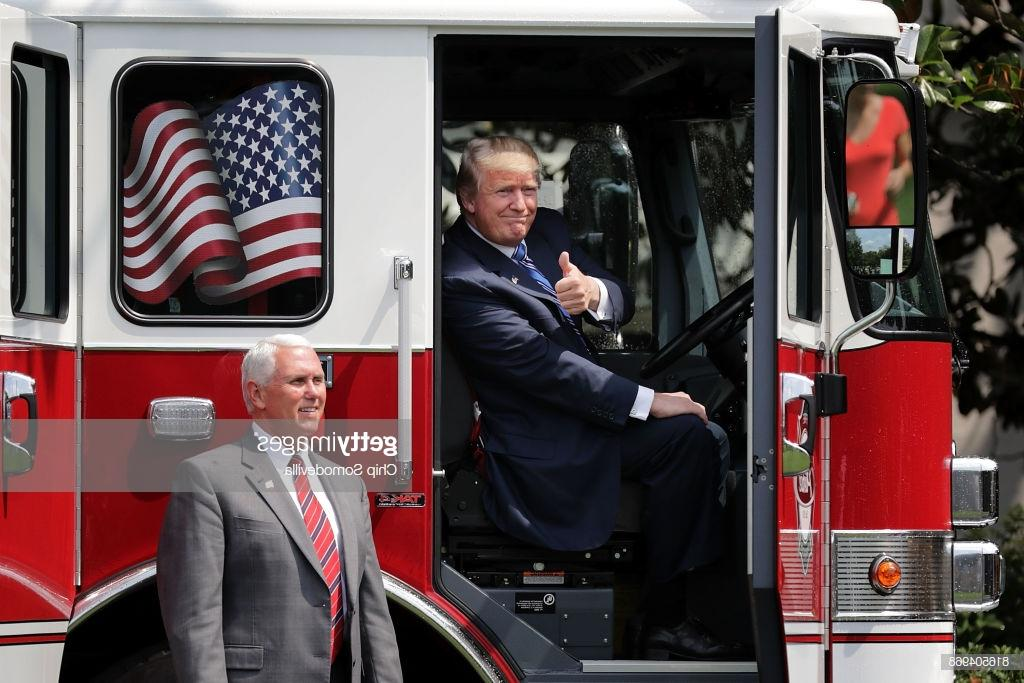thumbsup: (555, 250, 588, 314)
